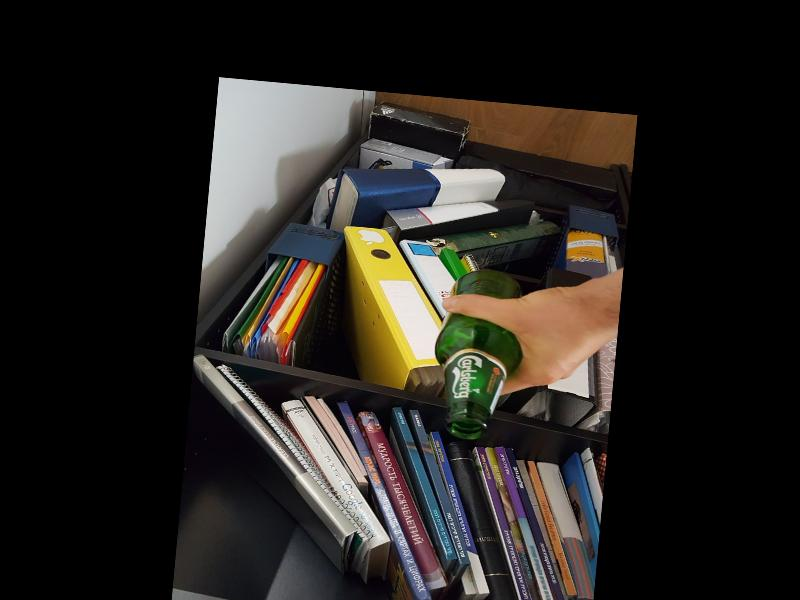Beer: (428, 264, 526, 442)
